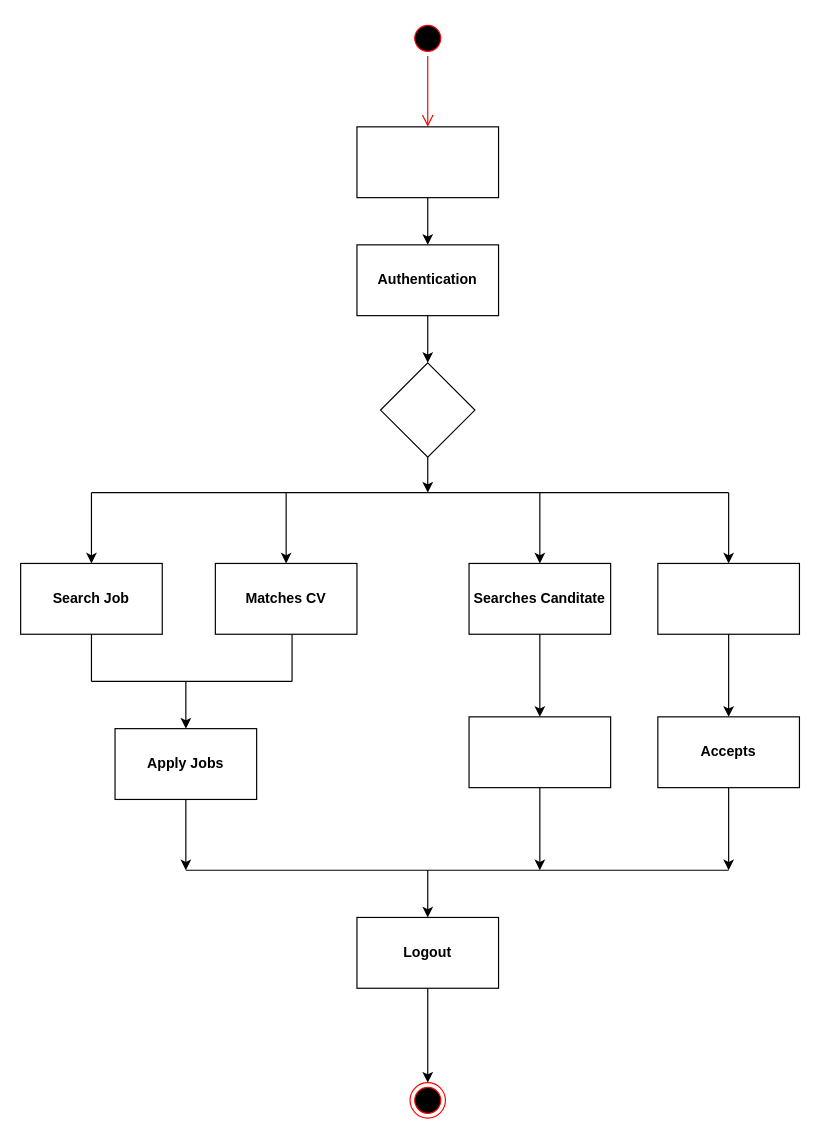
This 820x1139 diagram has some shape labels left out. Here are the shapes that lost their labels. From the top down, the box of each, then its label:
(356, 126, 499, 198): Login
(379, 362, 475, 457): Checks
(657, 562, 799, 634): Manages
(468, 716, 611, 788): Accept
